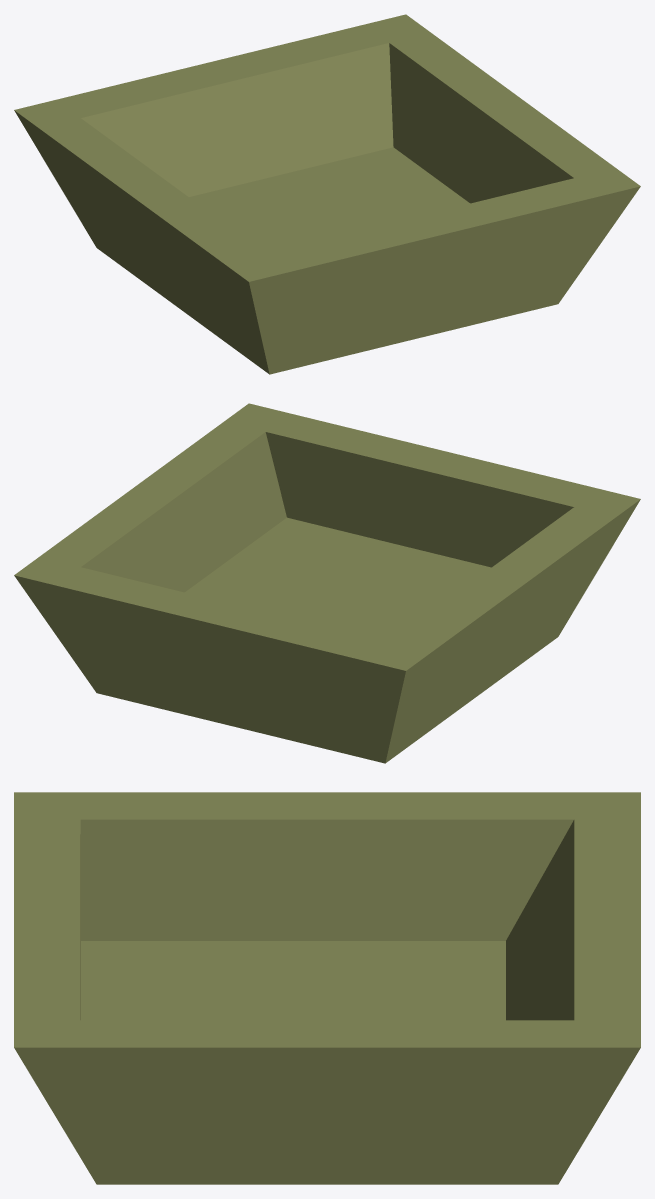
Rendered from Bowl 01.FBX.
3 views of the same model, one above another, from view 1: azimuth 30°, elevation 25°; view 2: azimuth 150°, elevation 25°; view 3: azimuth 270°, elevation 25° (orthographic). The views are drawn at different scales.
Parts seen in each view (by area): view 1: Bowl 01; view 2: Bowl 01; view 3: Bowl 01.
Part boxes in pixels (x1,y1,x2,y2): Bowl 01: [14, 14, 640, 374]; Bowl 01: [14, 403, 640, 763]; Bowl 01: [14, 792, 640, 1184].
Size of the model in its own units: 81.85 by 25.51 by 84.94.
